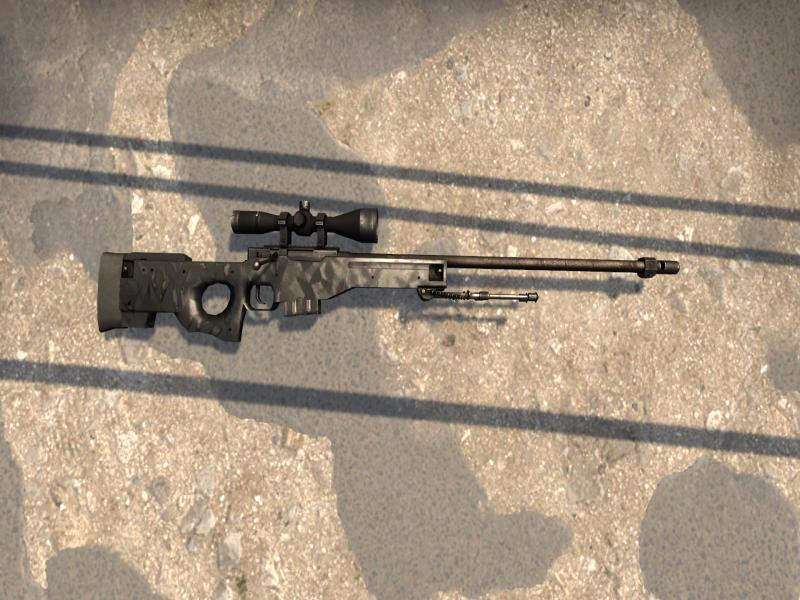AWP: (96, 201, 681, 342)
